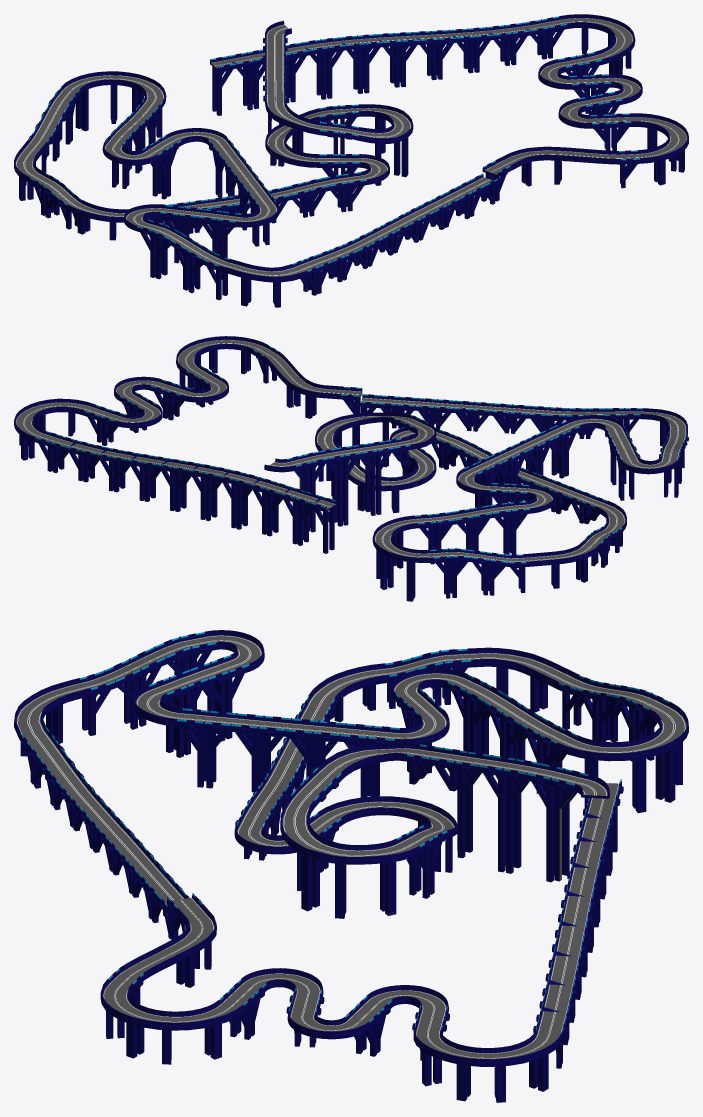
File: TrackTest.fbx
The picture shows the model from 3 angles, top to bottom: view 1: azimuth 30°, elevation 25°; view 2: azimuth 150°, elevation 25°; view 3: azimuth 270°, elevation 25°; orthographic projection. The views are drawn at different scales.
Visible parts, largest first — view 1: HW_1, HW_2; view 2: HW_1, HW_2; view 3: HW_1, HW_2.
Boxes of the visible parts, x1=… form: HW_1: x1=14, y1=20, x2=498, y2=307; HW_2: x1=210, y1=14, x2=688, y2=201; HW_1: x1=264, y1=394, x2=688, y2=601; HW_2: x1=14, y1=336, x2=362, y2=553; HW_1: x1=14, y1=630, x2=688, y2=939; HW_2: x1=100, y1=779, x2=623, y2=1102.
Size of what is drawn, in the model's own units: 69.81 by 8.97 by 48.39.
